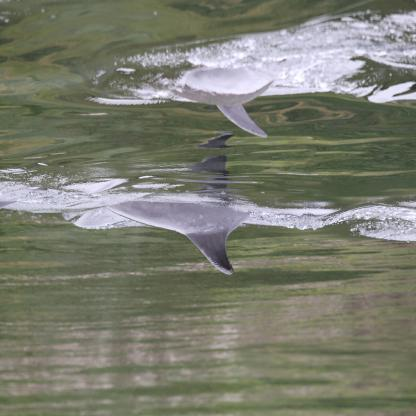dolphin-whale: (105, 194, 258, 286), (167, 67, 281, 146)
